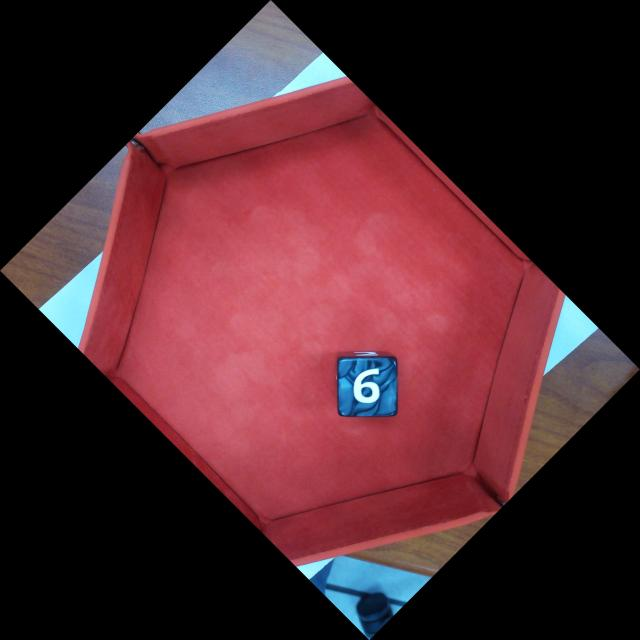dice: (341, 355, 398, 419)
